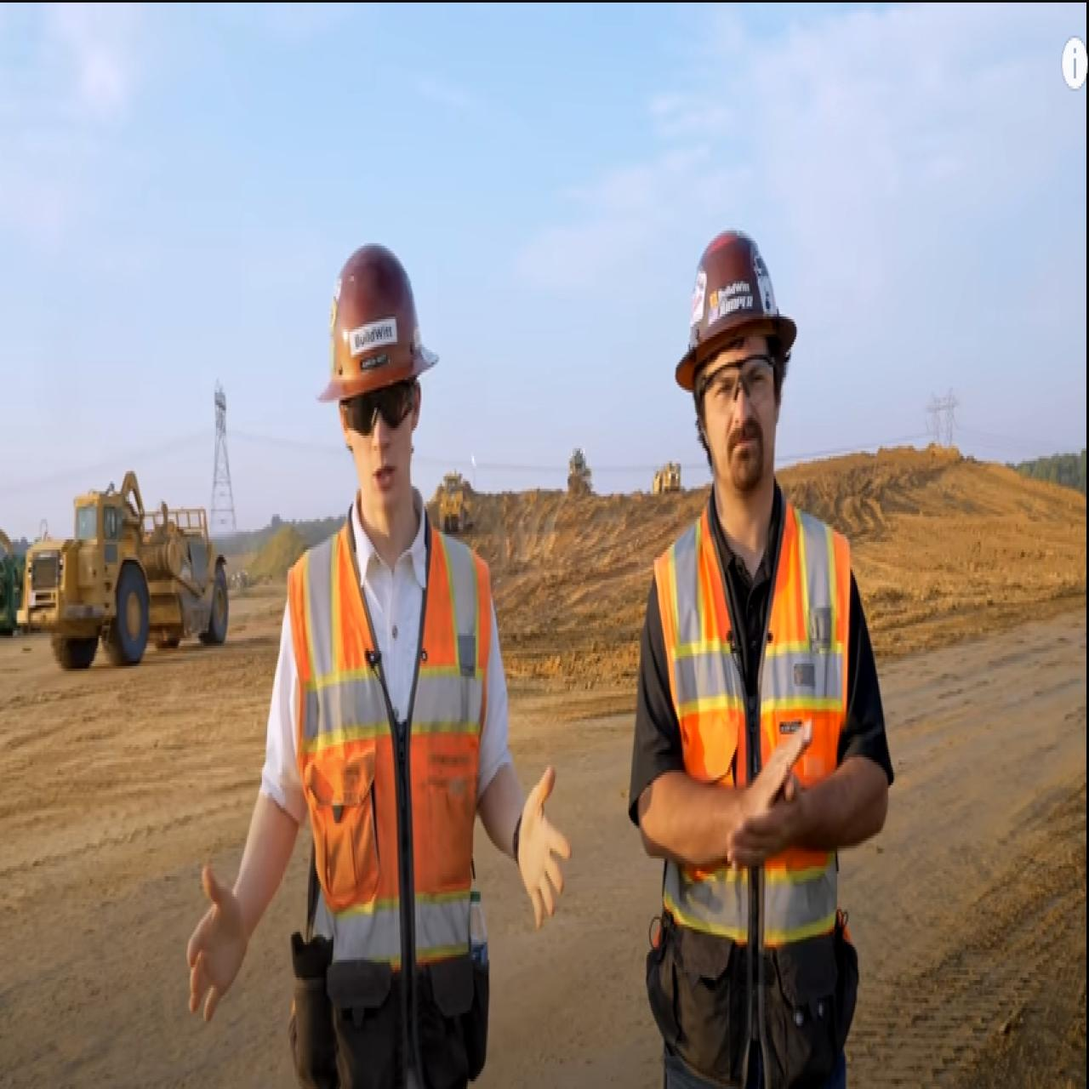Person: (172, 221, 580, 1089), (619, 206, 892, 1073)
Safety_Vest: (286, 513, 491, 977), (654, 495, 850, 944)
